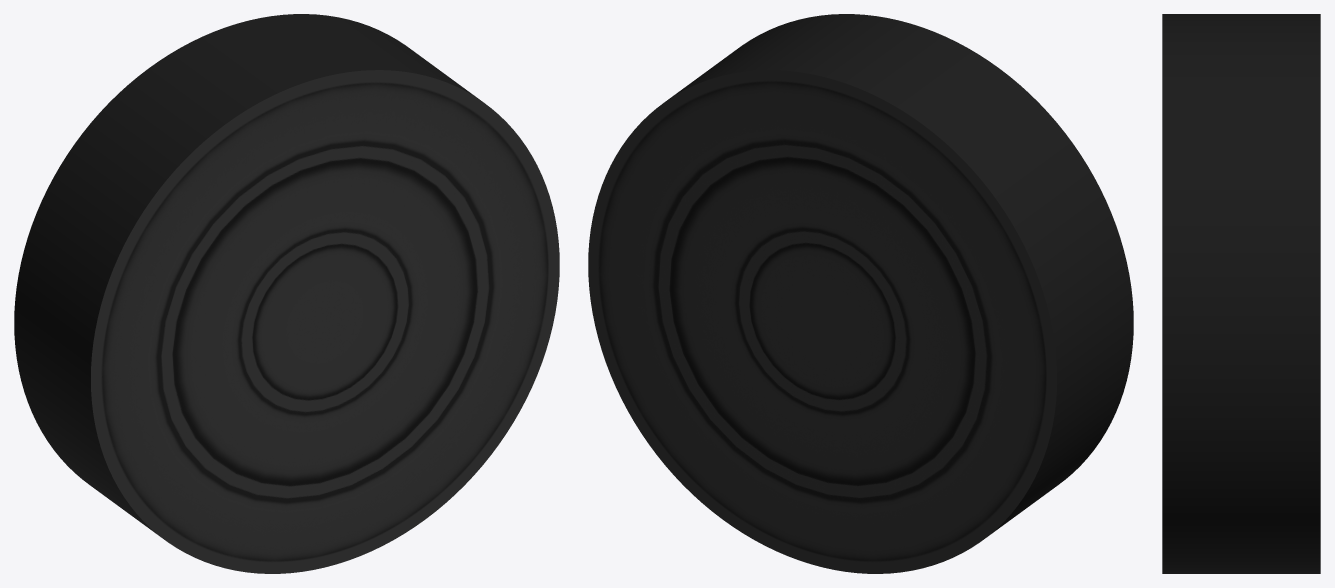
Rendered from CoinToss.fbx.
3 views of the same model, side by side, from view 1: azimuth 30°, elevation 25°; view 2: azimuth 150°, elevation 25°; view 3: azimuth 270°, elevation 25° (orthographic). The views are drawn at different scales.
Parts seen in each view (by area): view 1: Coin.001, Coin; view 2: Coin, Coin.001; view 3: Coin.001, Coin.
Boxes of the visible parts, <box> form: Coin.001: <box>51,41,559,573</box>; Coin: <box>14,14,439,509</box>; Coin: <box>588,43,1094,573</box>; Coin.001: <box>705,14,1133,509</box>; Coin.001: <box>1162,14,1243,573</box>; Coin: <box>1244,14,1320,573</box>.
Size of the model in its own units: 0.0318 by 0.0318 by 0.009.
